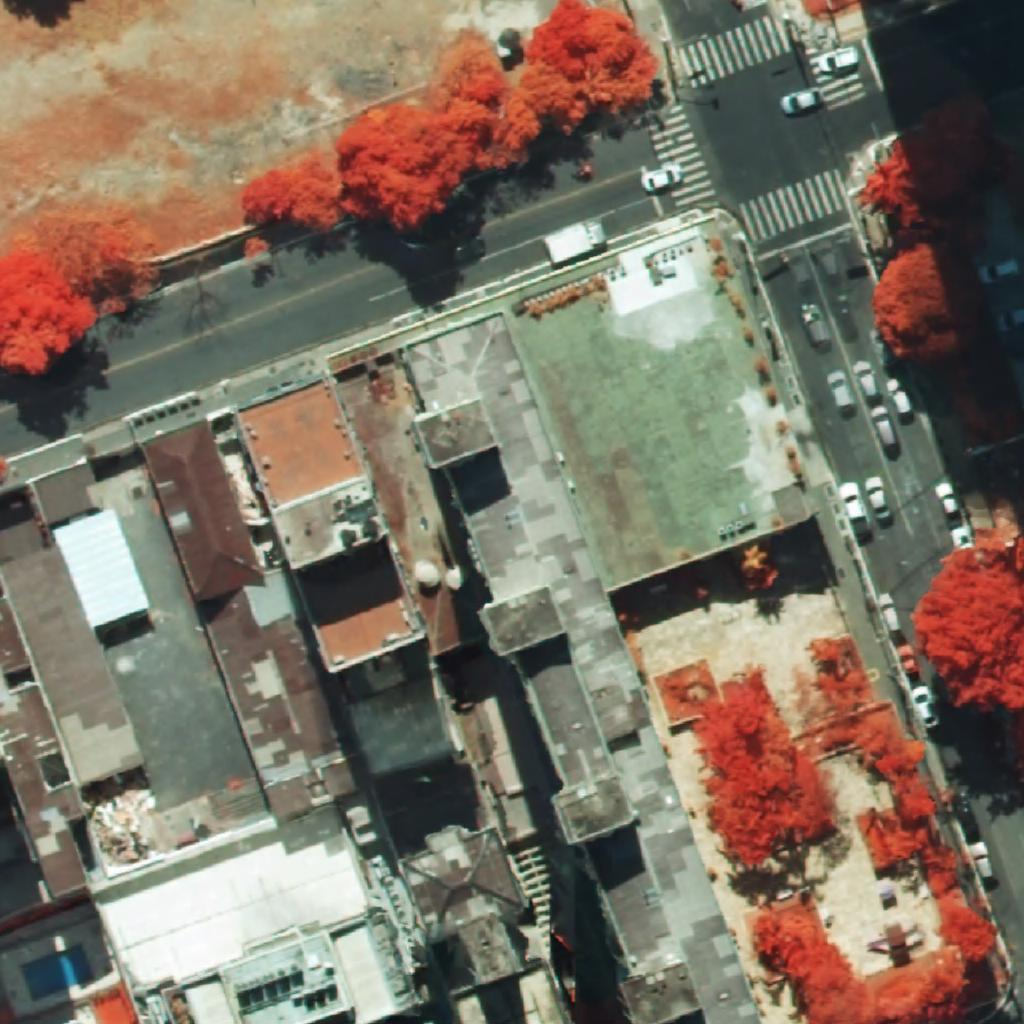pool: (22, 945, 93, 1001)
